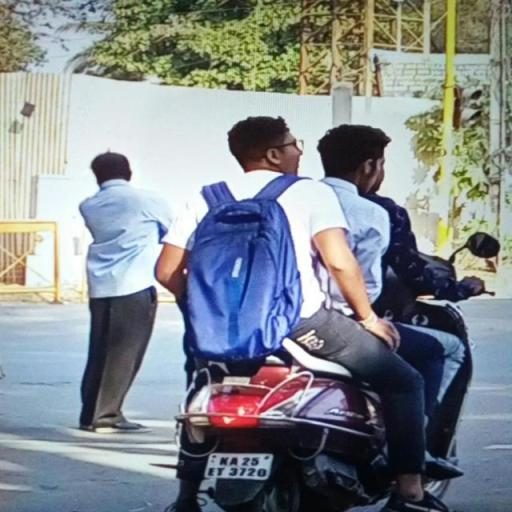tripple riding: (147, 115, 453, 350)
